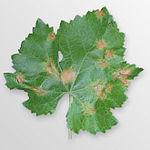grape leaf: (3, 6, 147, 146)
